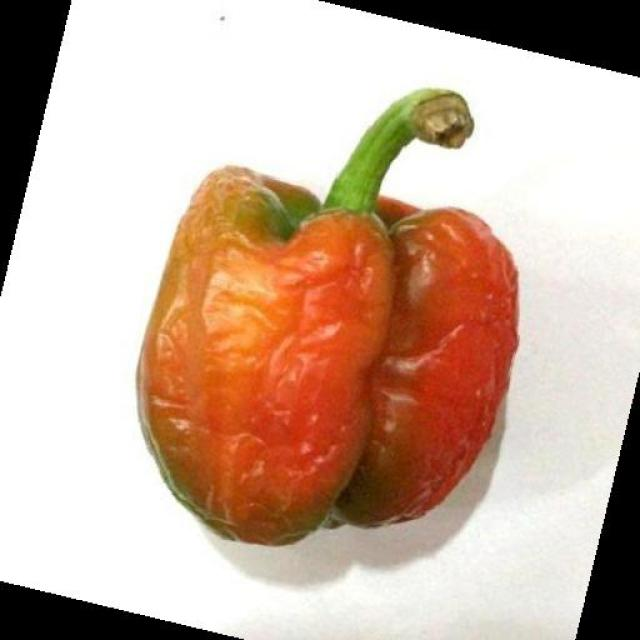Stale_Capsicum: (169, 106, 501, 534)
